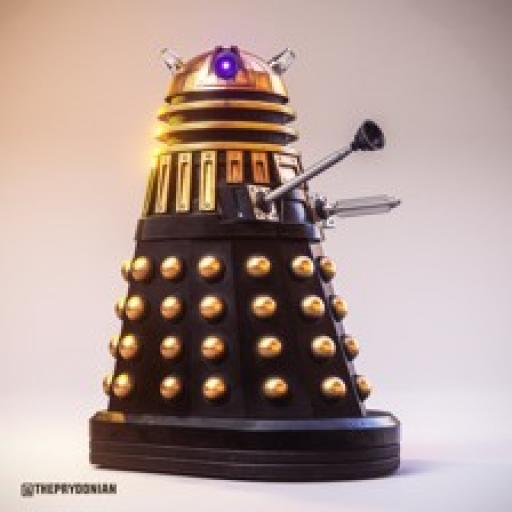dalek: (84, 46, 406, 482)
